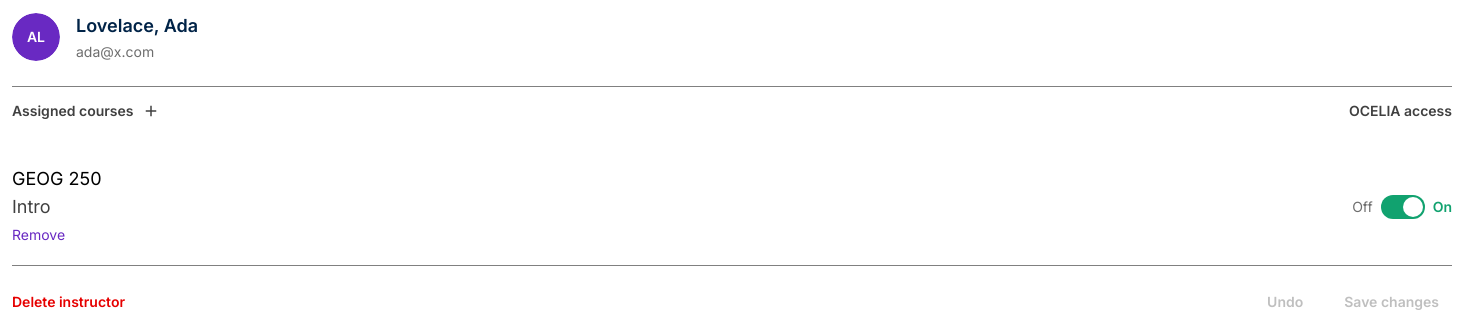
Scenario: InstructorDetail (staged editing) › keeps Save changes disabled until there is a staged edit
The image size is (1464, 333).
Expected: the button "Save changes" is disabled, [1331,288,1452,316]
Step 1. Click the switch named "OCELIA access for GEOG 250 — Intro" → {"x": 1403, "y": 207}, box [1381,195,1425,219]
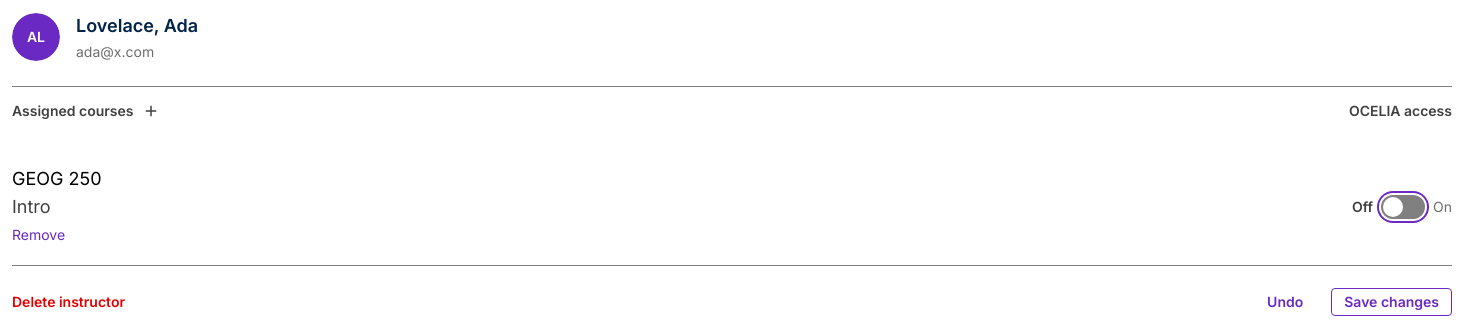
Expected: the button "Save changes" is enabled, [1331,288,1452,316]
